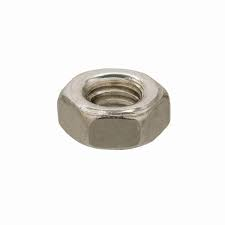Thread: (80, 74, 148, 114)
